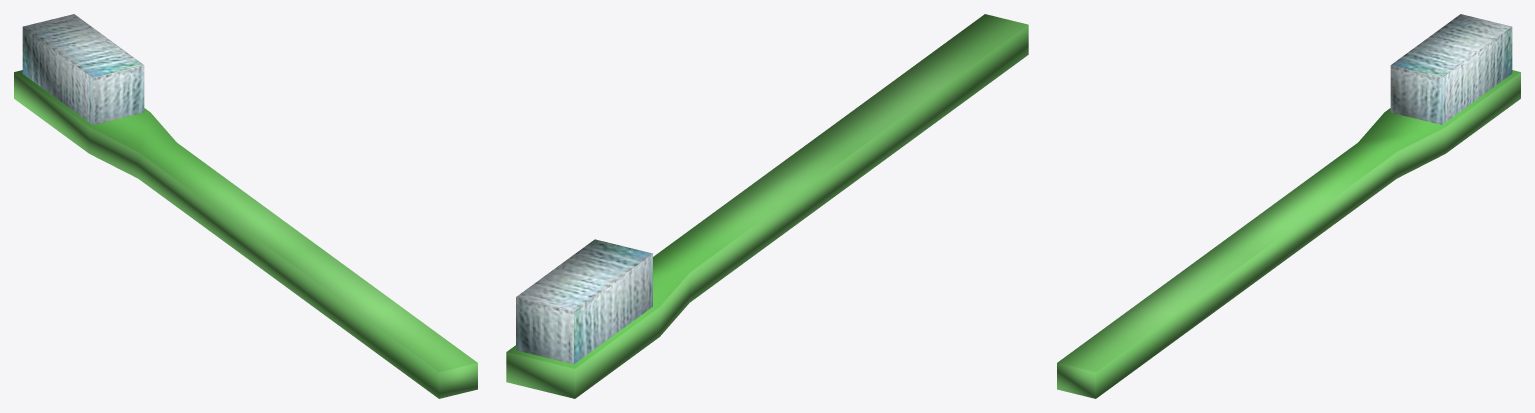
Rendered from Toothbrush_02.glb.
The picture shows the model from 3 angles, left to right: view 1: azimuth 30°, elevation 25°; view 2: azimuth 150°, elevation 25°; view 3: azimuth 330°, elevation 25°; orthographic projection. The views are drawn at different scales.
Parts seen in each view (by area): view 1: Toothbrush_02; view 2: Toothbrush_02; view 3: Toothbrush_02.
Part boxes in pixels (bbox=[...]): Toothbrush_02: bbox=[14, 14, 477, 398]; Toothbrush_02: bbox=[506, 14, 1028, 398]; Toothbrush_02: bbox=[1057, 14, 1520, 398].
Bounding box in the file's own units: 0.0165 × 0.019 × 0.1932.
Materials: 1 (1 with a texture image).
